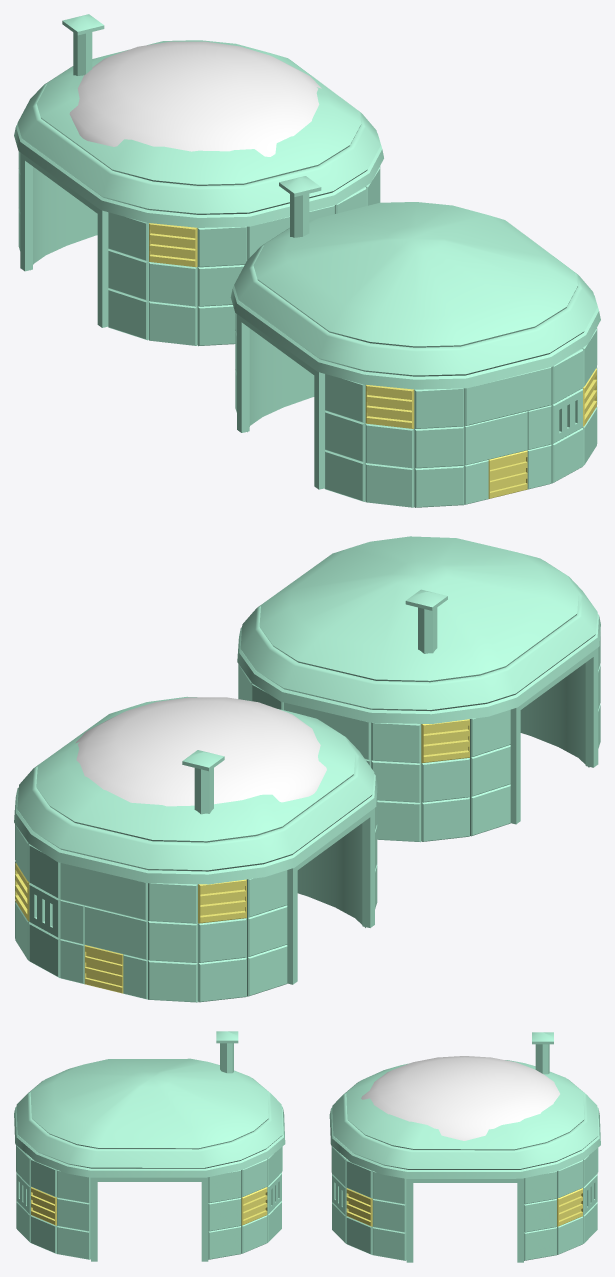
File: iglurealoficialfinal.fbx
The picture shows the model from 3 angles, top to bottom: view 1: azimuth 30°, elevation 25°; view 2: azimuth 150°, elevation 25°; view 3: azimuth 270°, elevation 25°; orthographic projection. The views are drawn at different scales.
Parts seen in each view (by area): view 1: igluoficial5, igluoficial6; view 2: igluoficial6, igluoficial5; view 3: igluoficial6, igluoficial5.
Part boxes in pixels (x1,y1,x2,y2): igluoficial5: [230, 176, 600, 507]; igluoficial6: [14, 14, 383, 346]; igluoficial6: [14, 696, 377, 1002]; igluoficial5: [237, 536, 600, 842]; igluoficial6: [329, 1032, 600, 1262]; igluoficial5: [14, 1031, 285, 1261].
Size of the model in its own units: 1059 by 806 by 2645.
